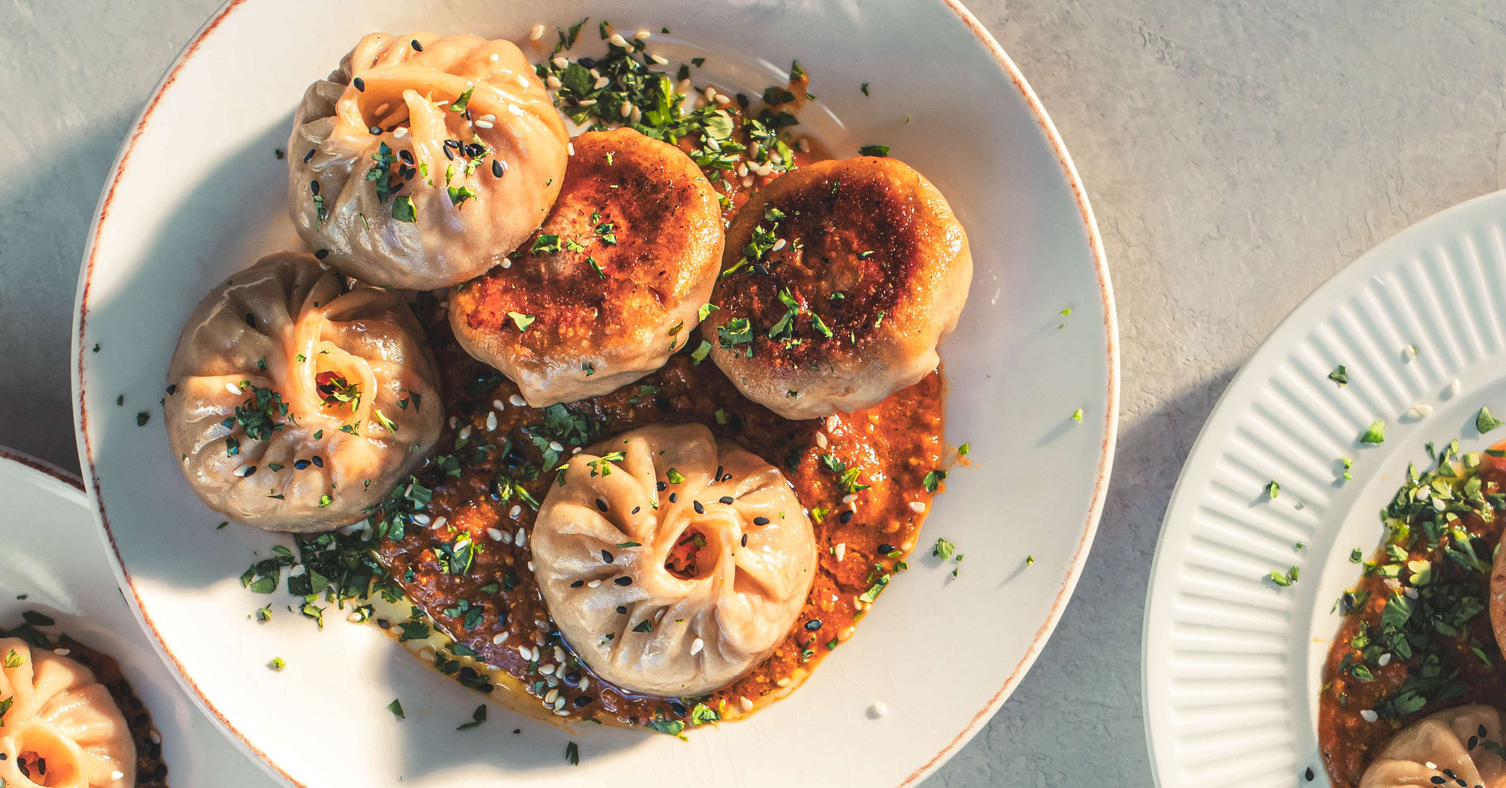momo: (529, 414, 813, 707), (158, 230, 433, 532), (454, 122, 738, 408), (698, 151, 964, 406), (299, 38, 559, 277), (0, 625, 145, 788), (1333, 691, 1506, 788)
